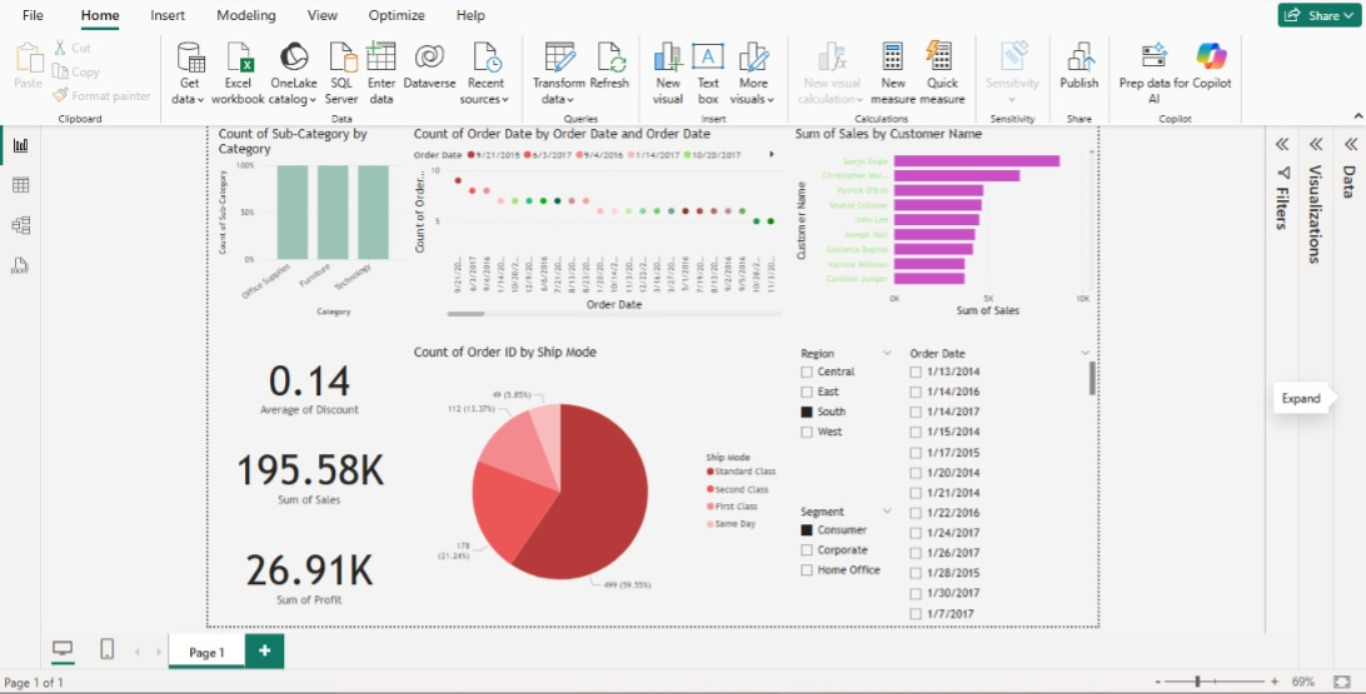

Layout of this report page (visuals, bound fields, positions):
{"tool":"powerbi","page":{"name":"Page 1","canvas":[1280,720],"ordinal":0},"visuals":[{"type":"hundredPercentStackedColumnChart","fields":{"Category":["Superstore.Category"],"Y":["Superstore.Sub-Category"]},"box":[10,0,280,280],"z":0},{"type":"lineChart","fields":{"Series":["Superstore.Order Date Hierarchy.Order Date"],"Category":["Superstore.Order Date Hierarchy.Order Date"],"Y":["Superstore.Order Date"]},"box":[290.6,0,539.2,280.5],"z":2000},{"type":"card","fields":{"Values":["Superstore.Sales"]},"box":[0,430,290.6,141.1],"z":3000},{"type":"card","fields":{"Values":["Superstore.Profit"]},"box":[0,569.4,290.6,151.2],"z":4000},{"type":"card","fields":{"Values":["Superstore.Discount"]},"box":[0,314.1,290.6,115.9],"z":5000},{"type":"clusteredBarChart","fields":{"Category":["Superstore.Customer Name"],"Y":["Superstore.Sales"]},"box":[840,0,440,281],"z":6000},{"type":"pieChart","fields":{"Category":["Superstore.Ship Mode"],"Y":["Superstore.Order ID"]},"box":[290.6,314.1,539.2,404.8],"z":7000},{"type":"slicer","fields":{"Values":["Superstore.Region"]},"box":[839.9,314.1,156.2,213.3],"z":8000},{"type":"slicer","fields":{"Values":["Superstore.Segment"]},"box":[839.9,540.9,156.2,178.1],"z":9000},{"type":"slicer","fields":{"Values":["Superstore.Order Date"]},"box":[996.1,314.1,283.9,404.8],"z":10000}]}

Visuals, with their boxes on the page's 1280x720 design canvas (x1, y1, x2, y2). These are canvas units, not pixel positions in the 1366x694 screenshot, which may show the page scaled, cropped or inside an application window:
hundredPercentStackedColumnChart - Superstore.Category x Superstore.Sub-Category: 10,0,290,280
lineChart - Superstore.Order Date Hierarchy.Order Date x Superstore.Order Date Hierarchy.Order Date: 291,0,830,280
card - Superstore.Sales: 0,430,291,571
card - Superstore.Profit: 0,569,291,721
card - Superstore.Discount: 0,314,291,430
clusteredBarChart - Superstore.Customer Name x Superstore.Sales: 840,0,1280,281
pieChart - Superstore.Ship Mode x Superstore.Order ID: 291,314,830,719
slicer - Superstore.Region: 840,314,996,527
slicer - Superstore.Segment: 840,541,996,719
slicer - Superstore.Order Date: 996,314,1280,719
